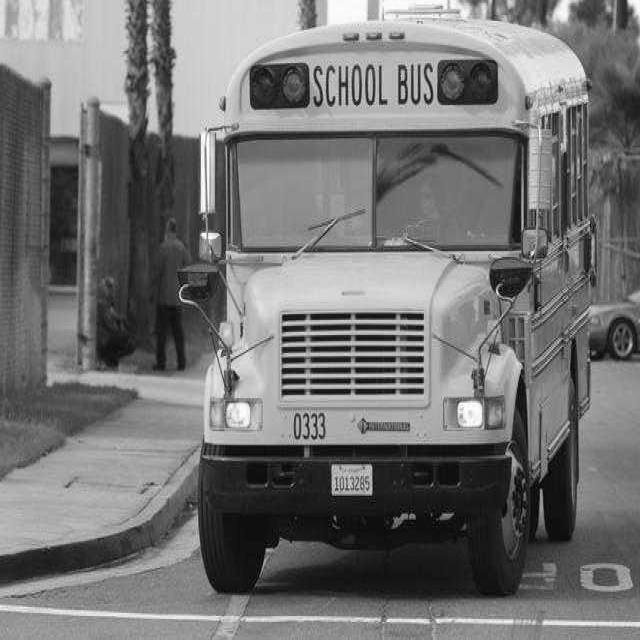Bus: (199, 21, 590, 594)
